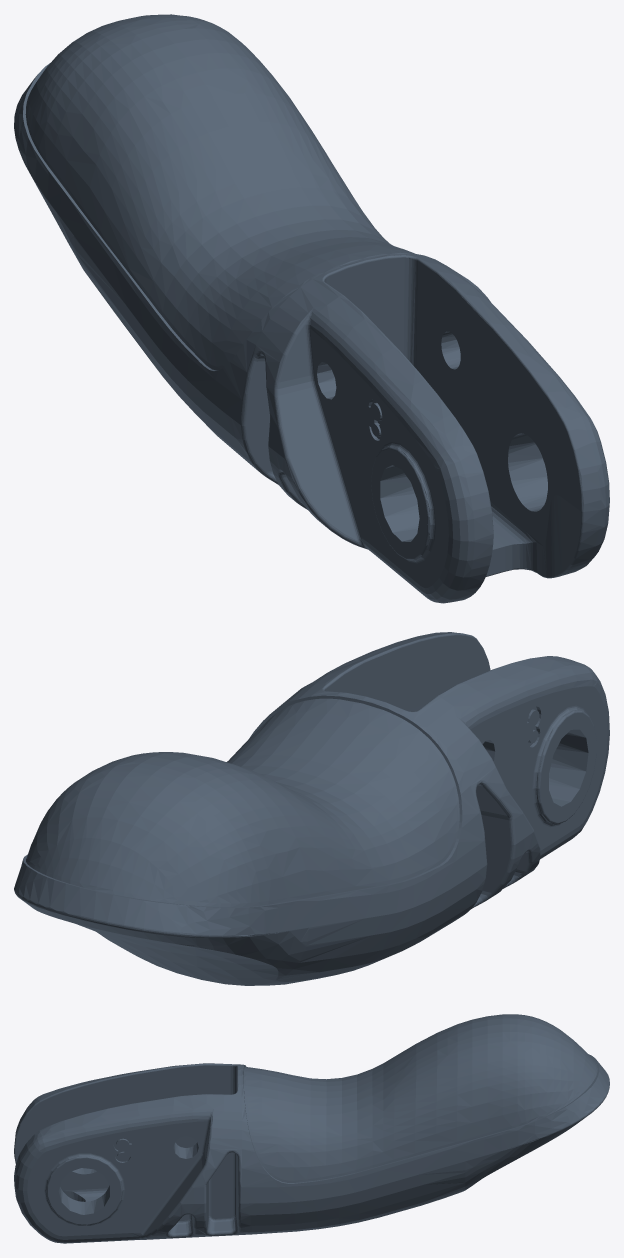
The model's file is R_ring_dist.dae.
The picture shows the model from 3 angles, top to bottom: view 1: azimuth 30°, elevation 25°; view 2: azimuth 150°, elevation 25°; view 3: azimuth 270°, elevation 25°; orthographic projection. The views are drawn at different scales.
Visible parts, largest first — view 1: R_ring_dist; view 2: R_ring_dist; view 3: R_ring_dist.
Boxes of the visible parts, bbox=[...] form: R_ring_dist: bbox=[14, 14, 609, 603]; R_ring_dist: bbox=[14, 632, 609, 985]; R_ring_dist: bbox=[14, 1014, 609, 1243].
Size of the model in its own units: 0.0147 by 0.047 by 0.0177.
